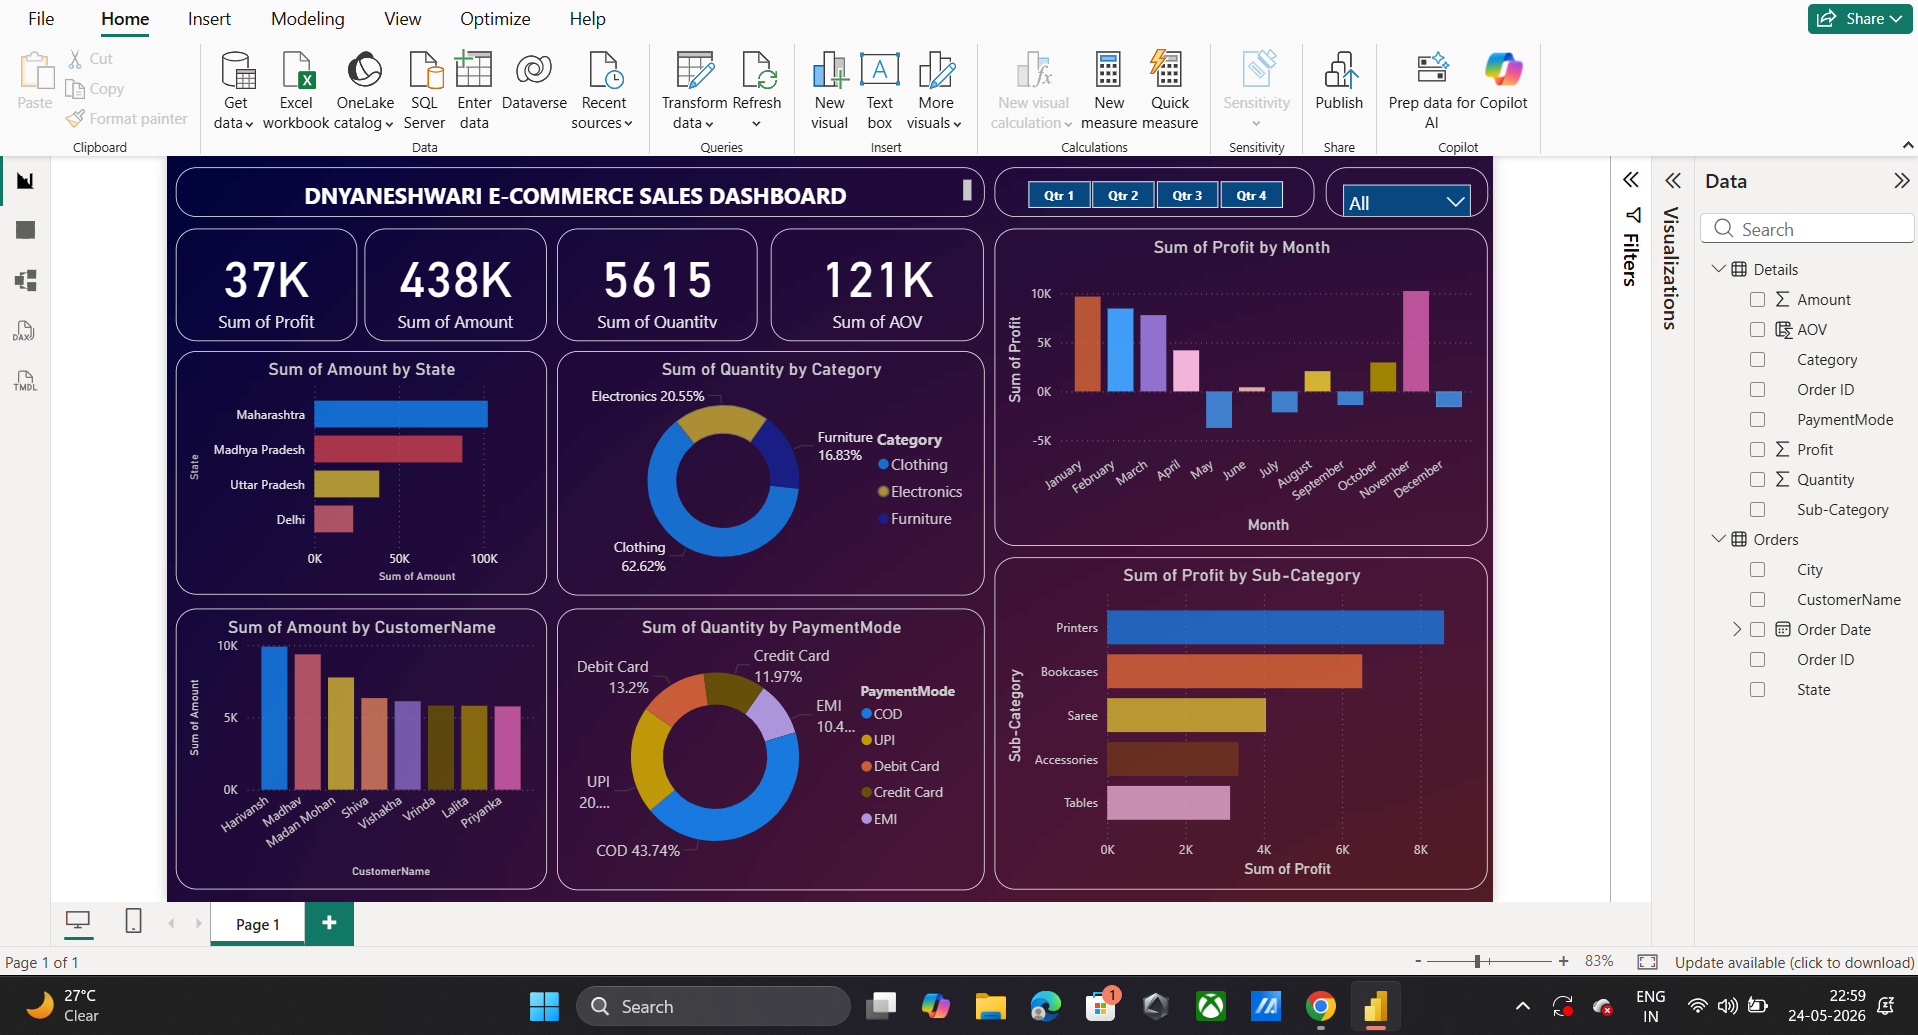

The page's visual inventory and layout, read from the dashboard file:
{"tool":"powerbi","page":{"name":"Page 1","canvas":[1280,720],"ordinal":0},"visuals":[{"type":"textbox","box":[8.4,10.9,780.6,48.3],"z":0},{"type":"columnChart","fields":{"Category":["Orders.Order Date.Variation.Date Hierarchy.Month"],"Y":["Sum(Details.Profit)"]},"box":[798.6,70,476.2,306],"z":1000},{"type":"barChart","fields":{"Category":["Details.Sub-Category"],"Y":["Sum(Details.Profit)"]},"box":[798.6,387,476.2,321.1],"z":2000},{"type":"donutChart","fields":{"Category":["Details.Category"],"Y":["Sum(Details.Quantity)"]},"box":[376,188,413,236],"z":3000},{"type":"pieChart","fields":{"Category":["Details.PaymentMode"],"Y":["Sum(Details.Quantity)"]},"box":[376,436.4,413,271.7],"z":4000},{"type":"card","fields":{"Values":["Sum(Details.Profit)"]},"box":[8.4,70,174.9,108.6],"z":5000},{"type":"card","fields":{"Values":["Sum(Details.Amount)"]},"box":[190.7,70,175.6,108.4],"z":6000},{"type":"card","fields":{"Values":["Sum(Details.Quantity)"]},"box":[376,70,193.5,108.4],"z":7000},{"type":"card","fields":{"Values":["Sum(Details.AOV)"]},"box":[583.2,70,205.8,108.4],"z":8000},{"type":"barChart","fields":{"Category":["Orders.State"],"Y":["Sum(Details.Amount)"]},"box":[8.4,188.2,358.3,235.3],"z":9000},{"type":"columnChart","fields":{"Category":["Orders.CustomerName"],"Y":["Sum(Details.Amount)"]},"box":[8.4,436.7,358.3,271.4],"z":10000},{"type":"slicer","fields":{"Values":["Orders.Order Date.Variation.Date Hierarchy.Quarter"]},"box":[798.7,10.9,308.8,48.3],"z":11000},{"type":"slicer","fields":{"Values":["Orders.State"]},"box":[1118.4,10.9,156.8,48.3],"z":12000}]}

Visuals, with their boxes on the page's 1280x720 design canvas (x1, y1, x2, y2). These are canvas units, not pixel positions in the 1918x1035 screenshot, which may show the page scaled, cropped or inside an application window:
textbox: [left=8, top=11, right=789, bottom=59]
columnChart - Orders.Order Date.Variation.Date Hierarchy.Month x Sum(Details.Profit): [left=799, top=70, right=1275, bottom=376]
barChart - Details.Sub-Category x Sum(Details.Profit): [left=799, top=387, right=1275, bottom=708]
donutChart - Details.Category x Sum(Details.Quantity): [left=376, top=188, right=789, bottom=424]
pieChart - Details.PaymentMode x Sum(Details.Quantity): [left=376, top=436, right=789, bottom=708]
card - Sum(Details.Profit): [left=8, top=70, right=183, bottom=179]
card - Sum(Details.Amount): [left=191, top=70, right=366, bottom=178]
card - Sum(Details.Quantity): [left=376, top=70, right=570, bottom=178]
card - Sum(Details.AOV): [left=583, top=70, right=789, bottom=178]
barChart - Orders.State x Sum(Details.Amount): [left=8, top=188, right=367, bottom=424]
columnChart - Orders.CustomerName x Sum(Details.Amount): [left=8, top=437, right=367, bottom=708]
slicer - Orders.Order Date.Variation.Date Hierarchy.Quarter: [left=799, top=11, right=1108, bottom=59]
slicer - Orders.State: [left=1118, top=11, right=1275, bottom=59]
